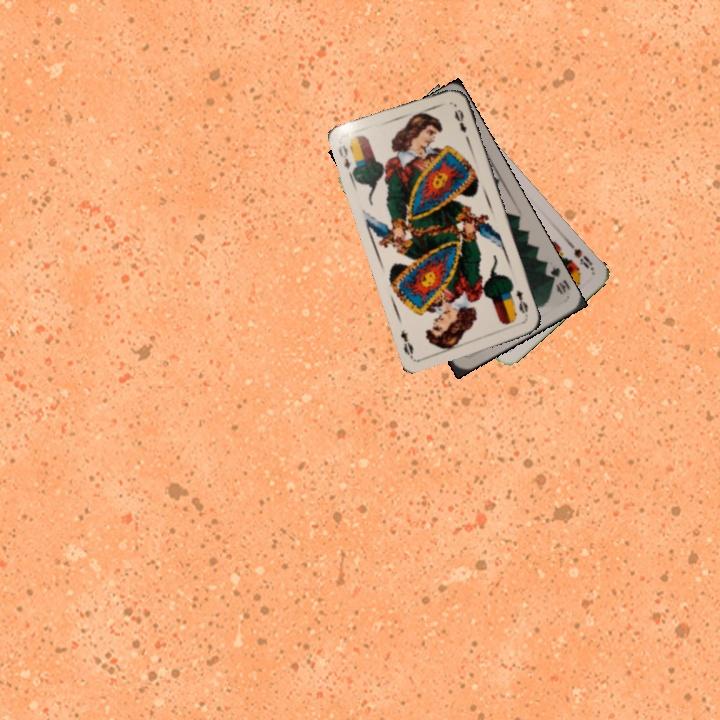EO: (334, 141, 360, 179), (512, 286, 531, 319)
G10: (541, 262, 572, 297)
S8: (565, 239, 596, 273)
